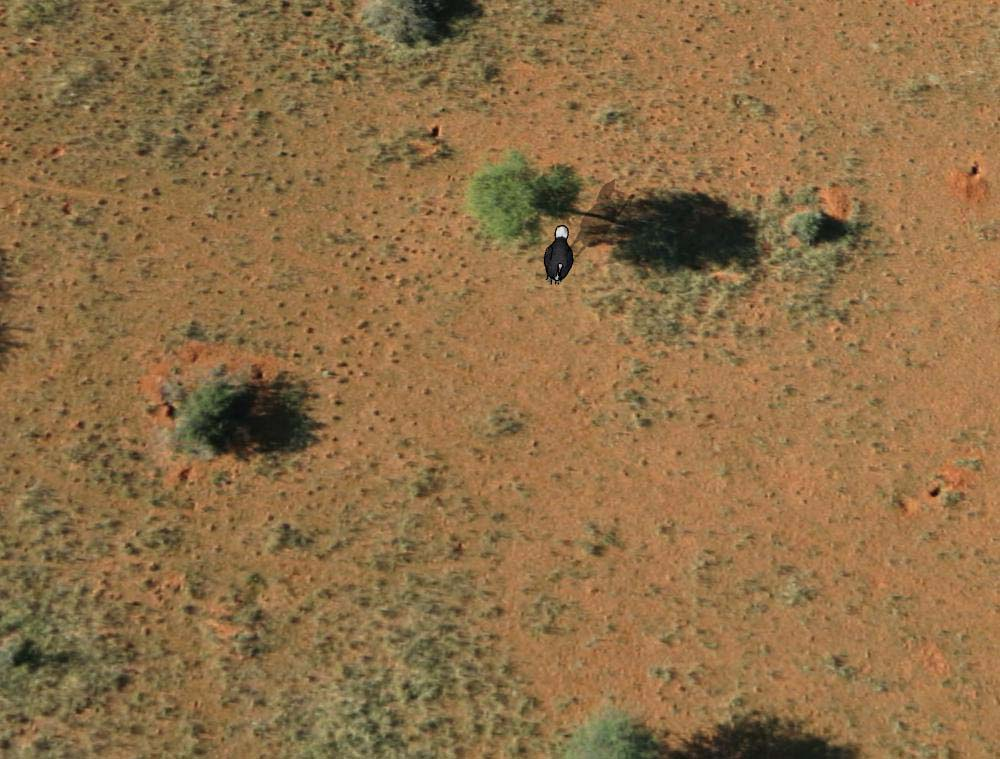springbok: (538, 221, 577, 290)
